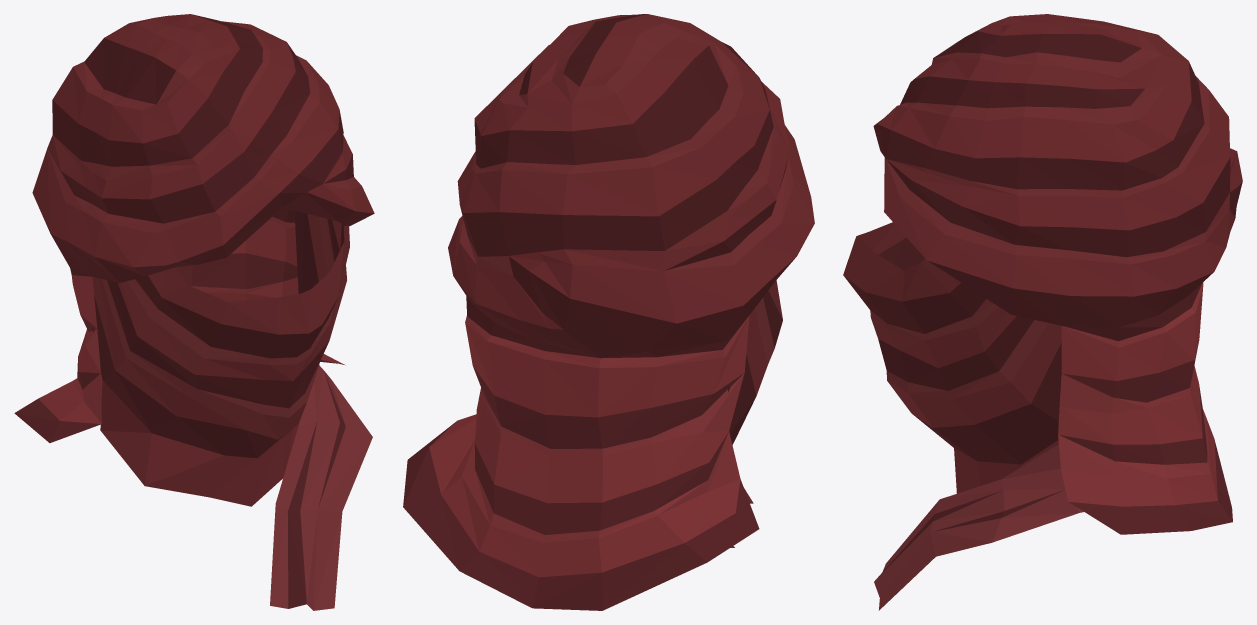
The model's file is desertTurbanCoveringColorFemale.glb.
3 renders of one model, left to right at view 1: azimuth 30°, elevation 25°; view 2: azimuth 150°, elevation 25°; view 3: azimuth 270°, elevation 25°, orthographic. The views are drawn at different scales.
Parts seen in each view (by area): view 1: desertTurbanCoveringColorFemale; view 2: desertTurbanCoveringColorFemale; view 3: desertTurbanCoveringColorFemale.
Part boxes in pixels (<box>): desertTurbanCoveringColorFemale: <box>14,14,374,610</box>; desertTurbanCoveringColorFemale: <box>403,14,814,610</box>; desertTurbanCoveringColorFemale: <box>843,14,1242,610</box>.
Size of the model in its own units: 0.3068 by 0.515 by 0.3321.
